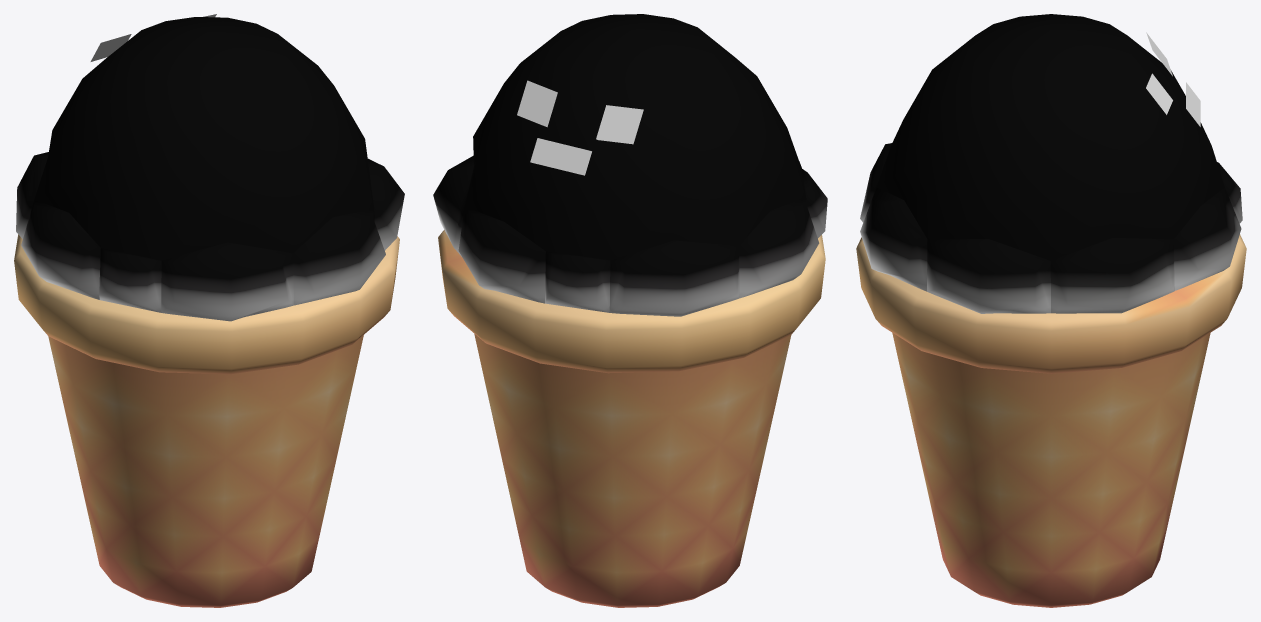
File: icecream_cup_smile.fbx
3 views of the same model, side by side, from view 1: azimuth 30°, elevation 25°; view 2: azimuth 150°, elevation 25°; view 3: azimuth 270°, elevation 25° (orthographic).
Parts seen in each view (by area): view 1: ice_cream_cup_smile; view 2: ice_cream_cup_smile; view 3: ice_cream_cup_smile.
Boxes of the visible parts, x1,y1,x2,y2 form: ice_cream_cup_smile: [14, 14, 404, 607]; ice_cream_cup_smile: [433, 14, 827, 607]; ice_cream_cup_smile: [856, 14, 1246, 607].
Bounding box in the file's own units: 52.62 × 78.89 × 52.14.
